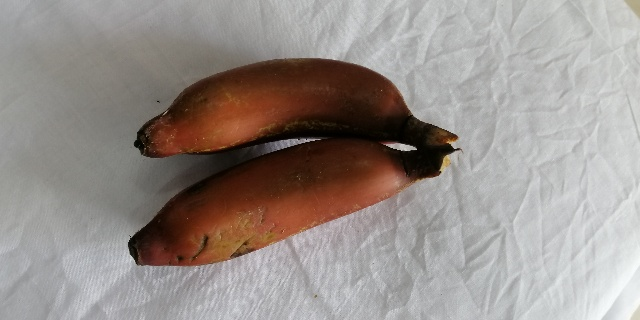banana_red: (128, 147, 456, 271), (134, 57, 464, 153)
